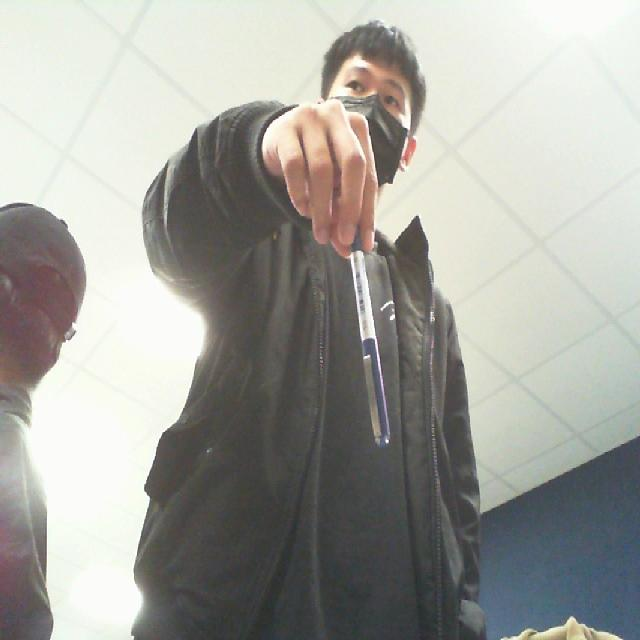Pen: (335, 225, 397, 469)
